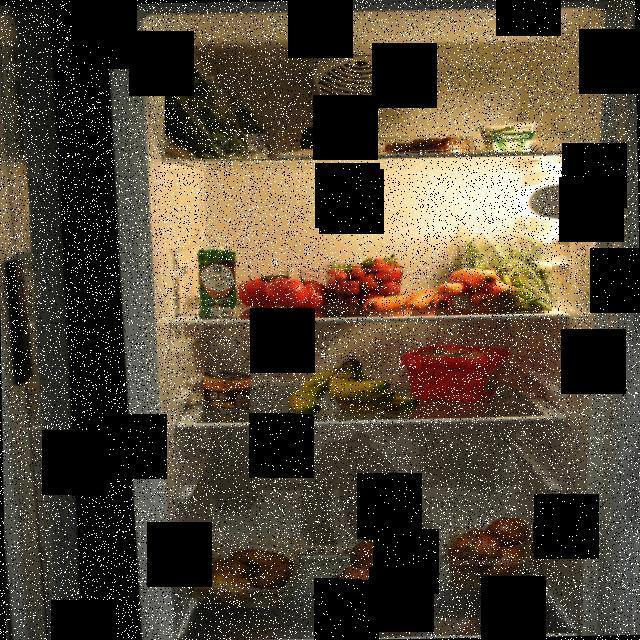banana: (285, 354, 421, 416)
butter: (400, 342, 513, 404)
carrot: (435, 268, 521, 314), (364, 290, 436, 314)
cheese: (298, 124, 358, 154)
corn: (201, 368, 253, 411)
goat_cheese: (475, 121, 546, 152)
green_beans: (453, 220, 552, 311)
heavy_cream: (197, 244, 237, 318)
onion: (444, 518, 536, 594)
potato: (187, 532, 299, 608)
shrimp: (386, 136, 474, 154)
spinach: (165, 49, 285, 159)
strawberries: (327, 252, 406, 312)
sweet_potato: (329, 524, 420, 610)
tomato: (234, 266, 335, 309)
